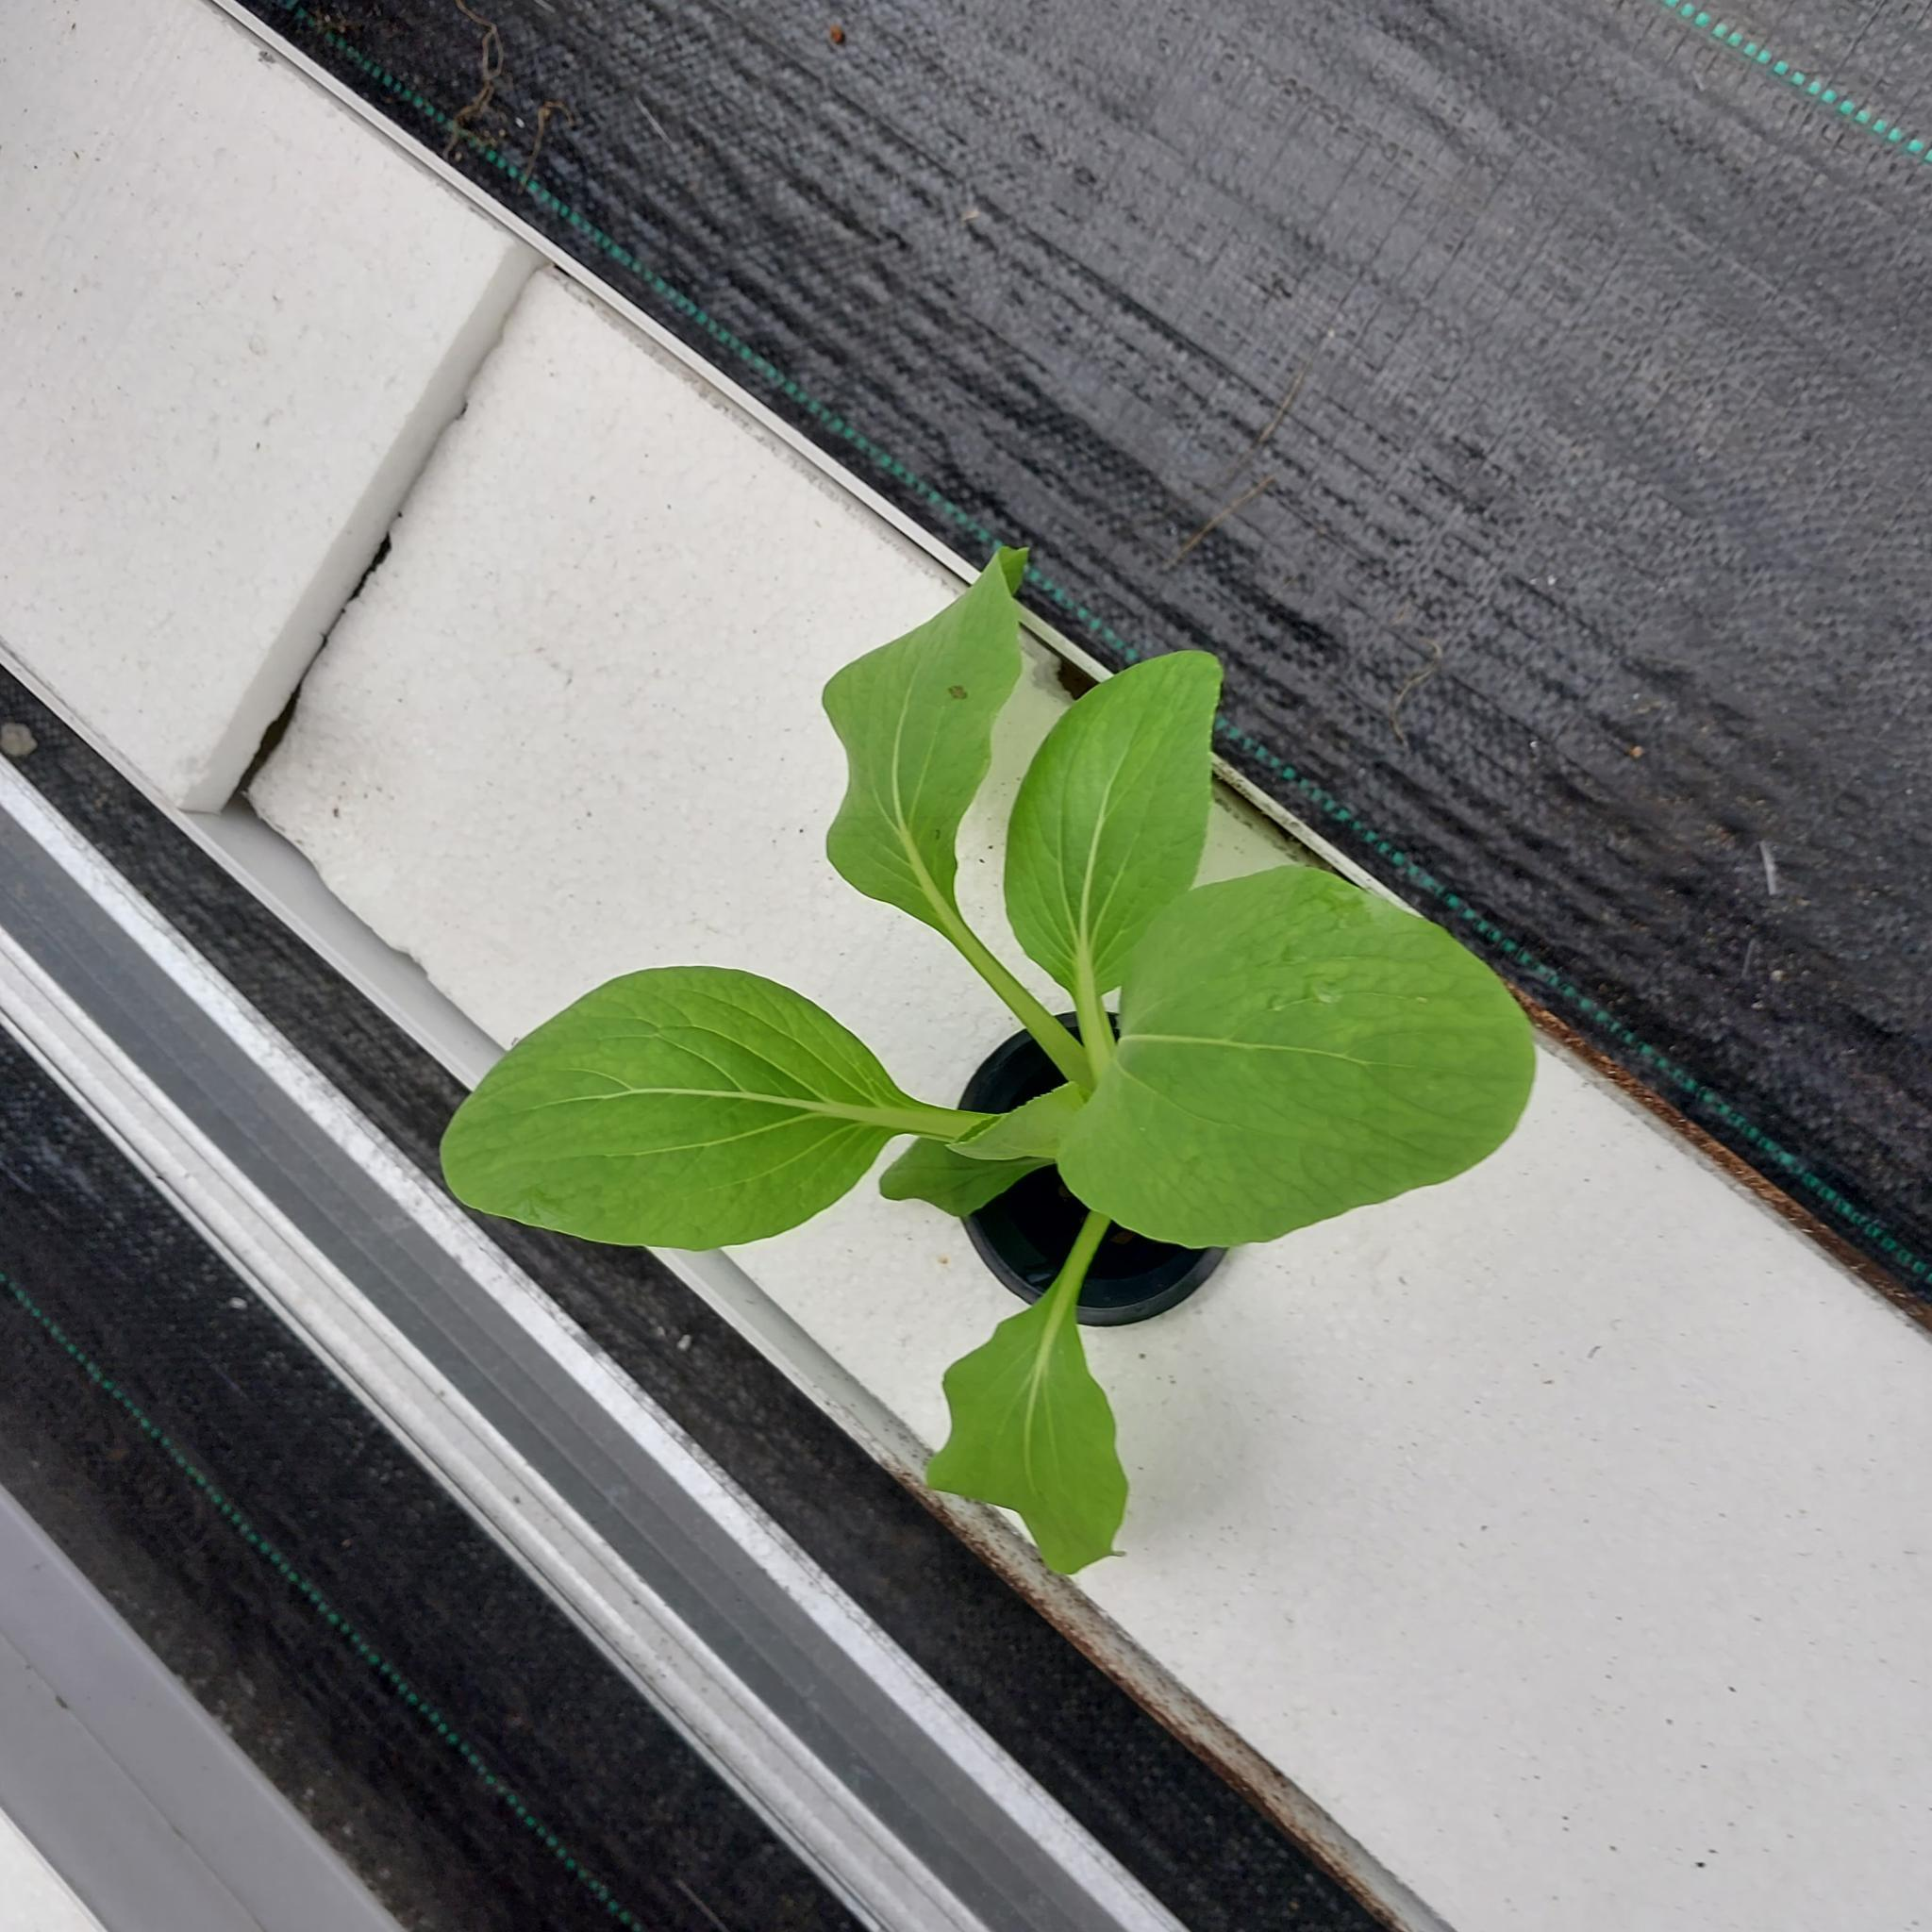Healthy-Pechay: (1056, 874, 1545, 1249), (441, 971, 985, 1249), (816, 538, 1037, 1001), (998, 644, 1217, 1060), (924, 1215, 1129, 1571), (550, 1012, 824, 1111), (1095, 1031, 1392, 1079), (536, 1079, 908, 1116), (1021, 1224, 1097, 1399)
